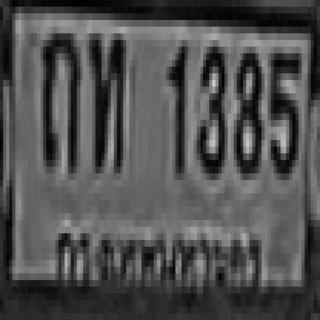A22: (40, 27, 77, 167)
A23: (86, 33, 123, 167)
N01: (166, 40, 185, 173)
N03: (194, 40, 225, 173)
N05: (268, 47, 298, 173)
N08: (232, 47, 260, 173)
P04: (54, 226, 266, 301)
